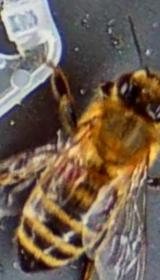varroa_mite: (54, 153, 81, 184)
